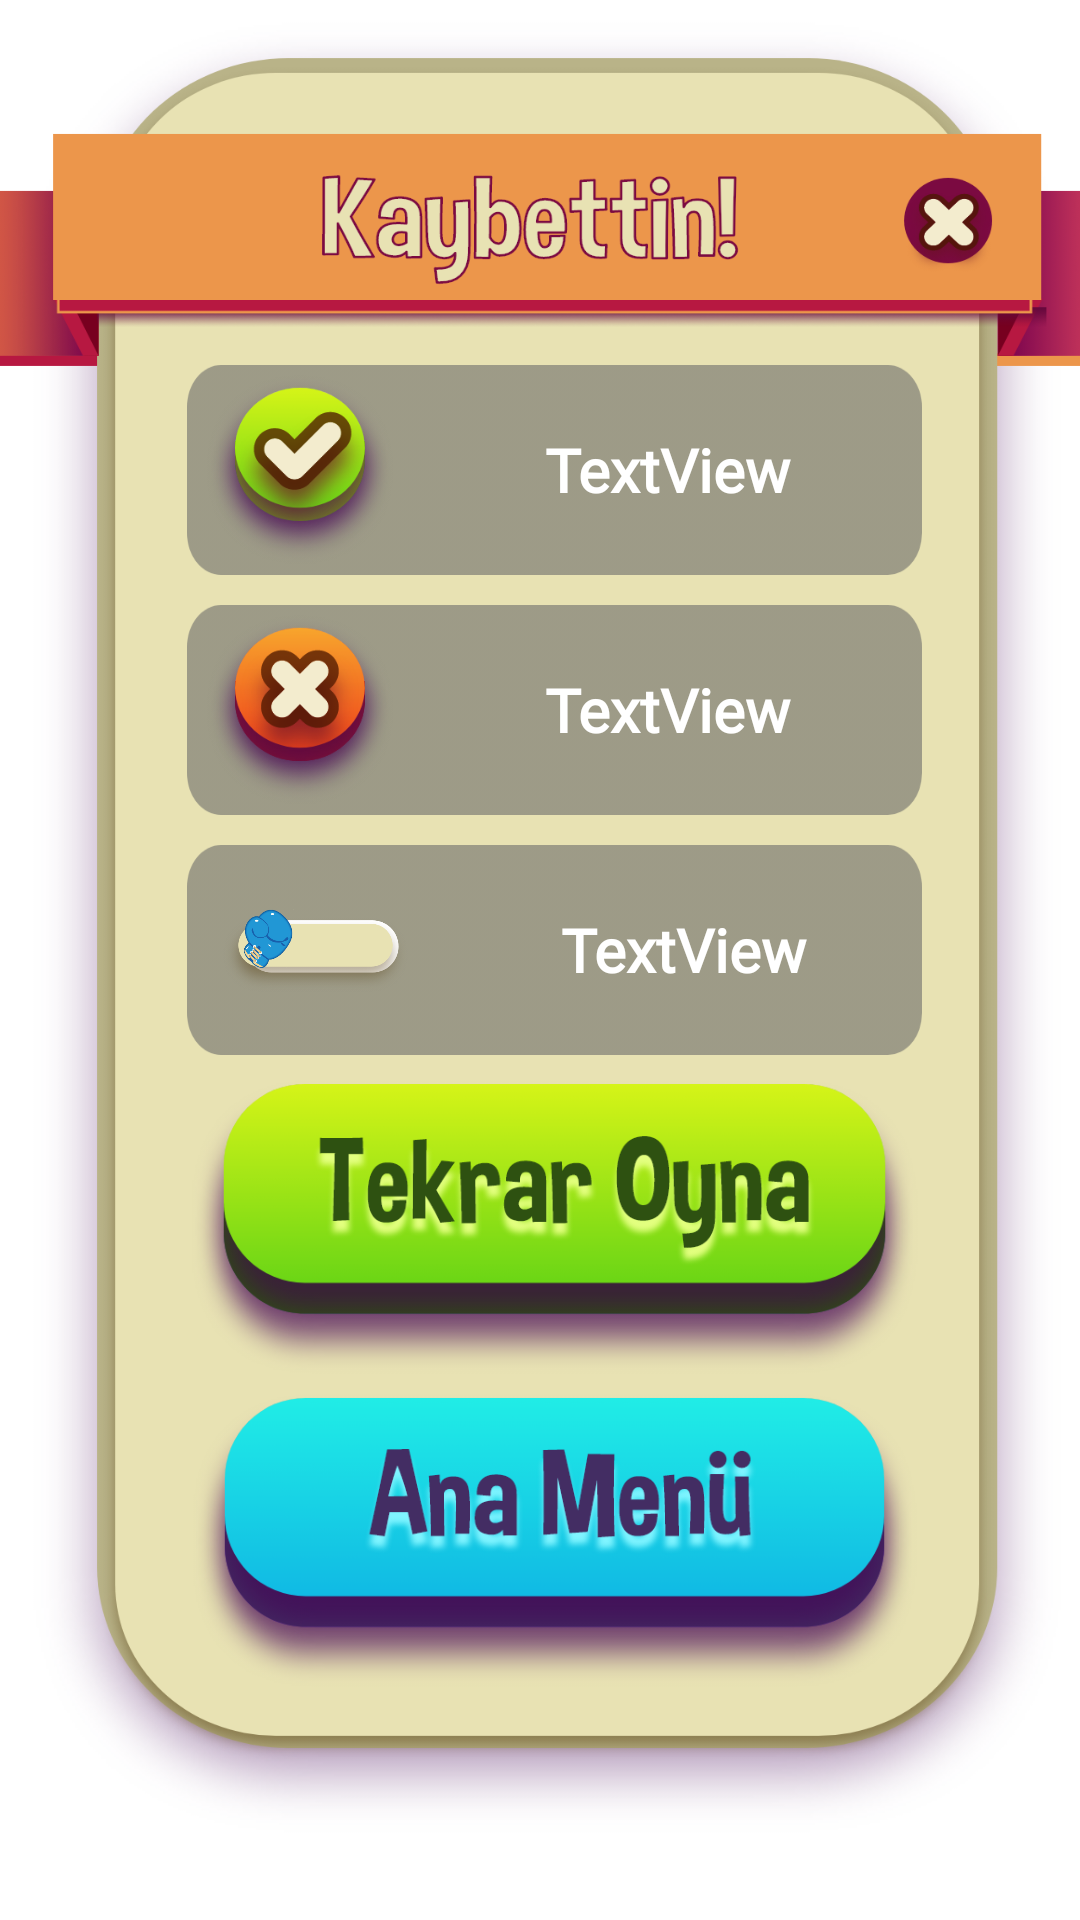

Point at icon controls on the screen. Image size 1080px x 1920px, points as [x,y].
falsetickicon: [300,710]
tickicon: [300,470]
